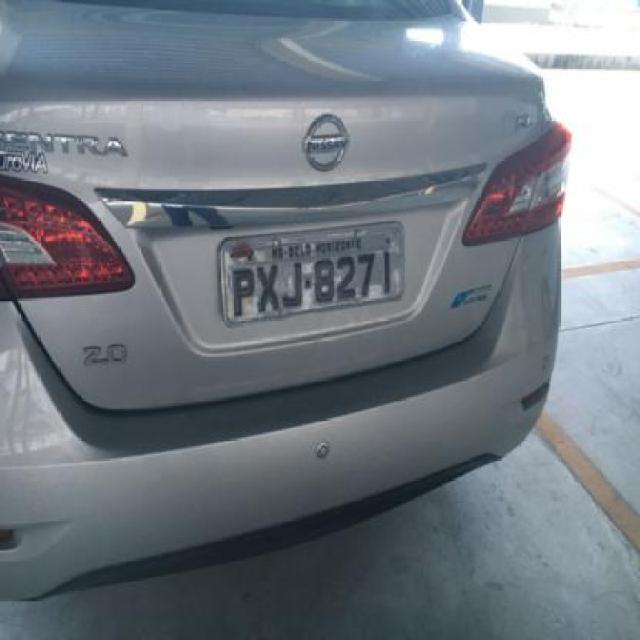old_plate: (211, 216, 415, 332)
